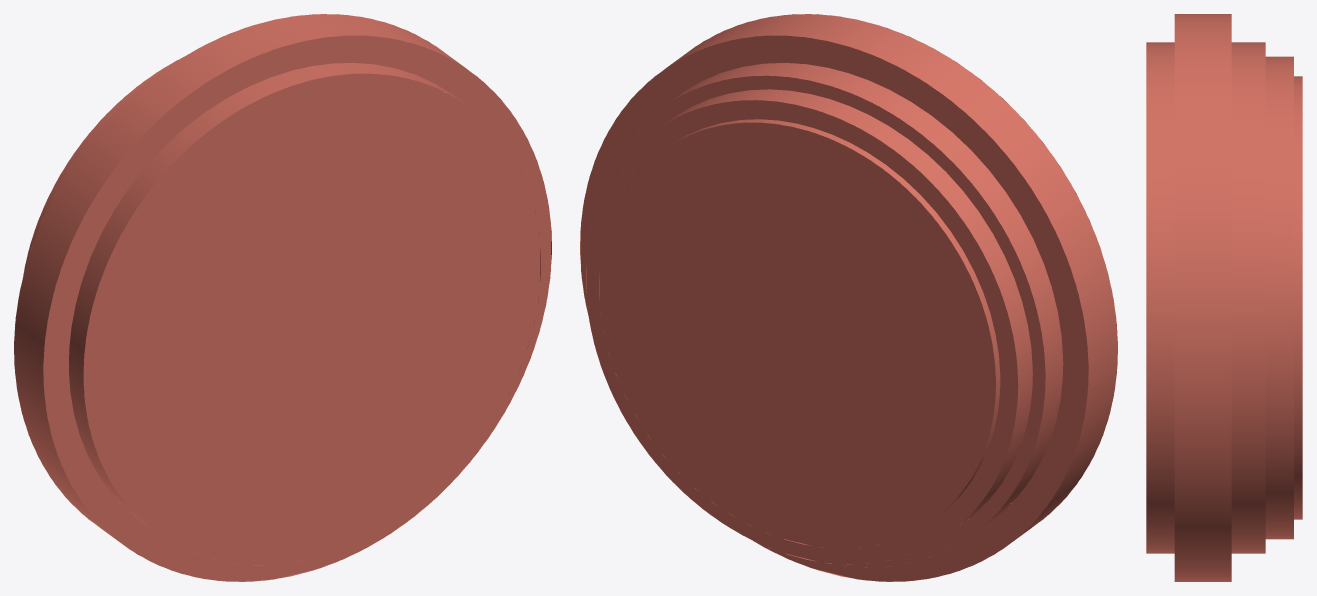
Rendered from pangaileilingjian.FBX.
3 renders of one model, left to right at view 1: azimuth 30°, elevation 25°; view 2: azimuth 150°, elevation 25°; view 3: azimuth 270°, elevation 25°, orthographic. The views are drawn at different scales.
Visible parts, largest first — view 1: TRM_SRF (×7); view 2: TRM_SRF (×12); view 3: TRM_SRF (×10).
Part boxes in pixels (x1=…): TRM_SRF (×7): x1=14, y1=14, x2=551, y2=581; TRM_SRF (×12): x1=580, y1=14, x2=1117, y2=581; TRM_SRF (×10): x1=1146, y1=14, x2=1302, y2=581.
Bounding box in the file's own units: 39.37 × 39.36 × 10.83.
